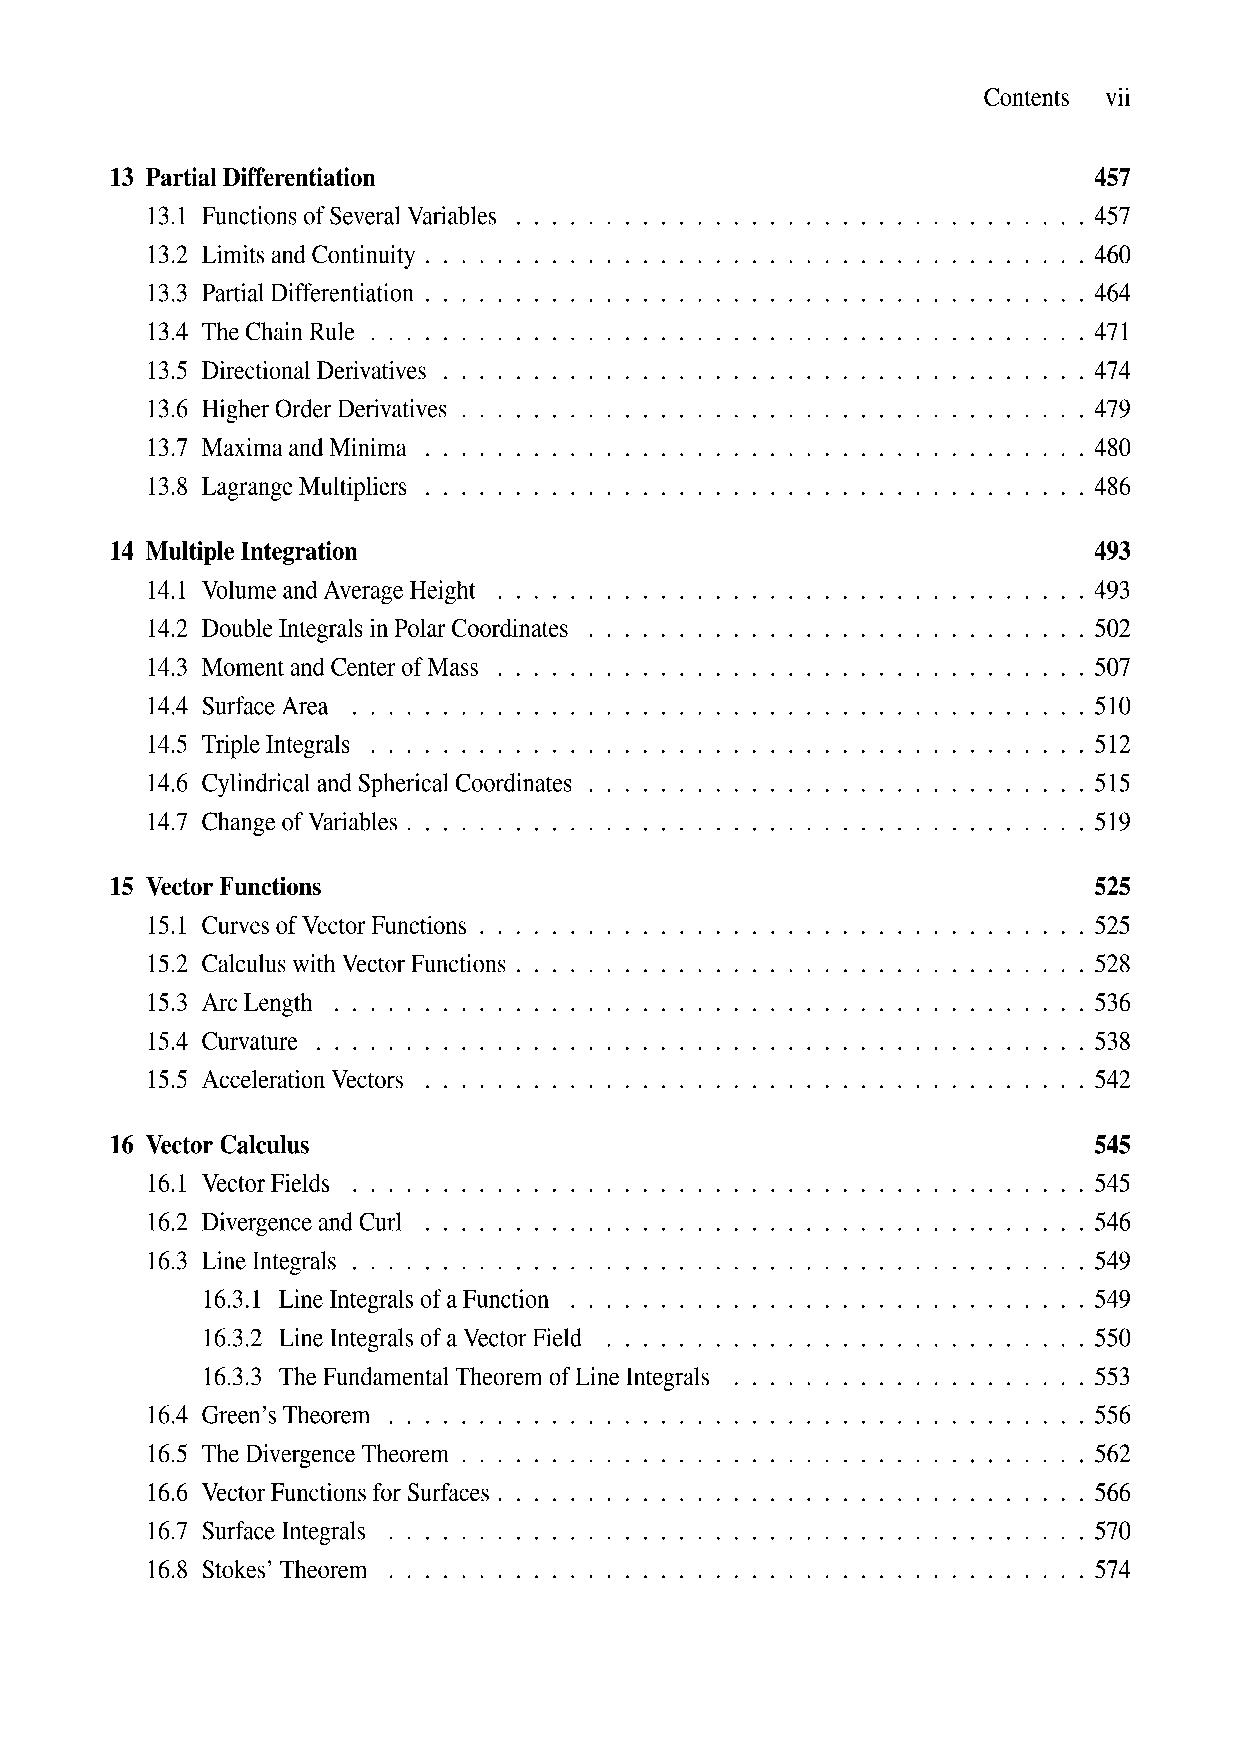TOC_chapter: (148, 607, 572, 648), (196, 1359, 715, 1393), (148, 764, 578, 801), (144, 945, 511, 984), (141, 650, 484, 684), (141, 570, 476, 605), (144, 197, 501, 229), (196, 1322, 585, 1351), (200, 1282, 556, 1314), (145, 467, 413, 509), (145, 910, 470, 942), (102, 526, 362, 565), (101, 860, 327, 905), (144, 1475, 494, 1503), (105, 157, 381, 191), (141, 1202, 405, 1237), (144, 354, 428, 386), (144, 429, 405, 464), (145, 392, 450, 421), (149, 276, 415, 310), (144, 1063, 407, 1096), (141, 1439, 452, 1467), (145, 1551, 370, 1588), (141, 242, 415, 271), (144, 1514, 368, 1546), (148, 723, 354, 758), (149, 808, 403, 836), (145, 1241, 341, 1278), (141, 1394, 370, 1425), (103, 1125, 315, 1157), (140, 1168, 340, 1201), (144, 311, 358, 342), (148, 986, 319, 1023), (145, 690, 331, 721), (144, 1021, 303, 1055)
TOC_pagenumber: (1088, 197, 1137, 231), (1088, 1129, 1137, 1159), (1090, 1322, 1135, 1354), (1092, 1475, 1135, 1508), (1092, 1435, 1133, 1469), (1088, 730, 1138, 758), (1088, 1245, 1138, 1274), (1090, 982, 1133, 1015), (1092, 272, 1131, 307), (1088, 238, 1134, 267), (1092, 1512, 1137, 1542), (1088, 1066, 1137, 1092), (1090, 573, 1135, 601), (1090, 1282, 1131, 1312), (1088, 471, 1138, 497), (1092, 609, 1131, 641), (1092, 352, 1133, 382), (1092, 157, 1129, 191), (1092, 766, 1129, 800), (1092, 872, 1135, 900), (1090, 1208, 1133, 1236), (1092, 1398, 1135, 1427), (1090, 1361, 1129, 1392), (1092, 1025, 1133, 1055), (1090, 913, 1133, 939), (1090, 1168, 1133, 1194), (1092, 392, 1131, 421), (1092, 650, 1131, 679), (1090, 433, 1133, 459), (1090, 535, 1133, 561), (1092, 1555, 1137, 1580), (1088, 951, 1137, 973), (1092, 807, 1131, 832), (1094, 318, 1133, 342), (1096, 692, 1130, 714)
chapter: (972, 83, 1078, 115)
